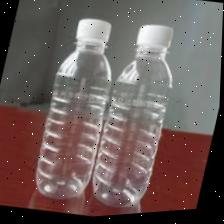plastic: (87, 20, 197, 219), (28, 12, 128, 211)
